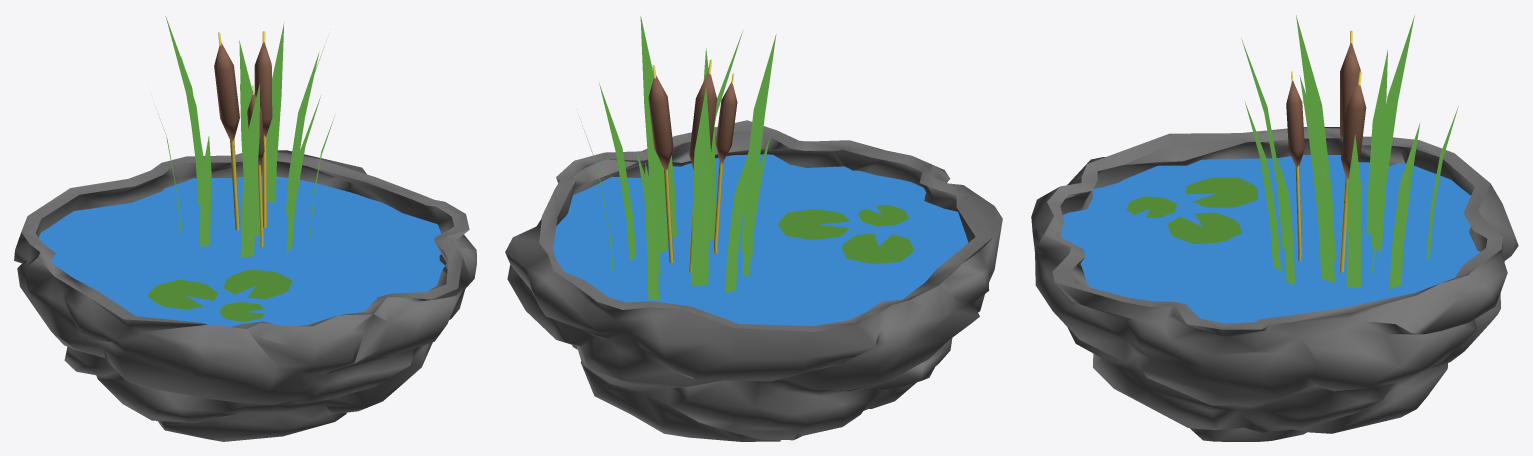
File: Pond_01.fbx
3 views of the same model, side by side, from view 1: azimuth 30°, elevation 25°; view 2: azimuth 150°, elevation 25°; view 3: azimuth 270°, elevation 25° (orthographic). The views are drawn at different scales.
Parts seen in each view (by area): view 1: Plane.001; view 2: Plane.001; view 3: Plane.001.
Part boxes in pixels (x1,y1,x2,y2): Plane.001: (14,16,476,441); Plane.001: (505,16,1002,441); Plane.001: (1031,15,1518,441).
Bounding box in the file's own units: 1.71 × 1.54 × 1.7.
